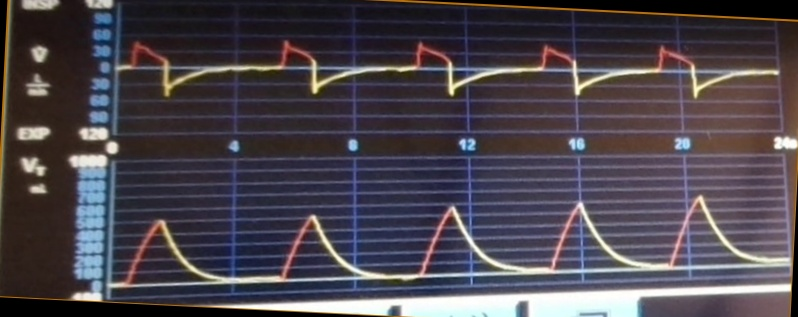Normal Flow: (120, 31, 781, 116)
Normal Volume: (116, 187, 790, 287)
